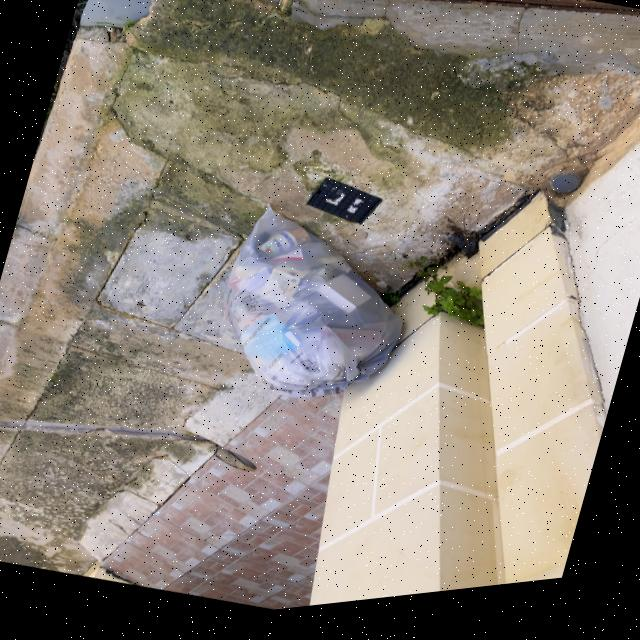Recycled Waste -Grey or Green Bag-: (199, 190, 432, 439)
